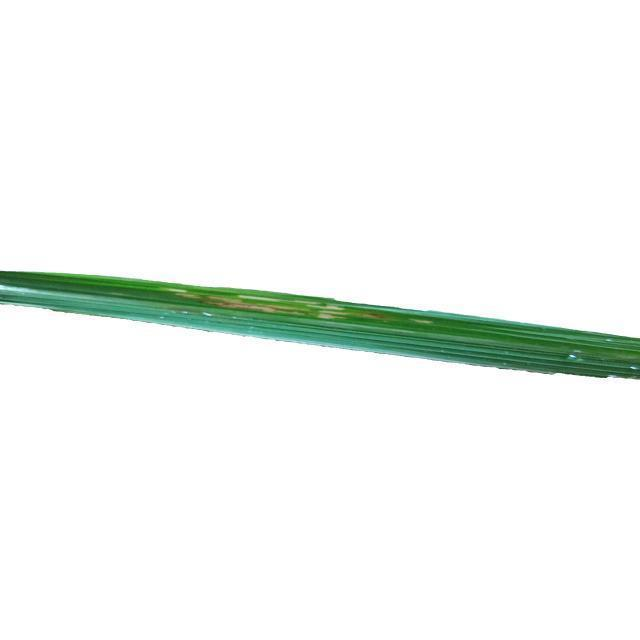Bacterial_Leaf_Blight: (159, 280, 356, 318)
